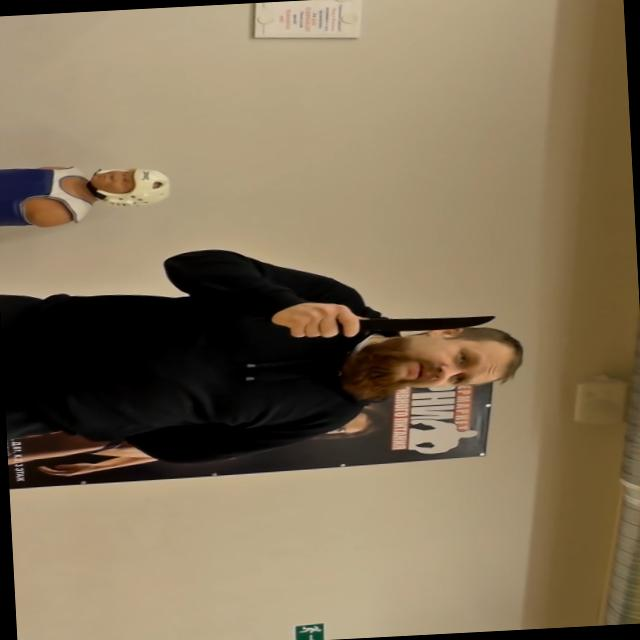knife: (288, 298, 502, 346)
